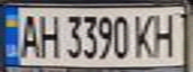0: (112, 11, 133, 60)
3: (60, 11, 84, 60), (78, 11, 100, 60)
9: (96, 12, 115, 60)
A: (15, 11, 42, 60)
H: (148, 9, 181, 58), (36, 11, 60, 60)
K: (133, 11, 157, 60)
